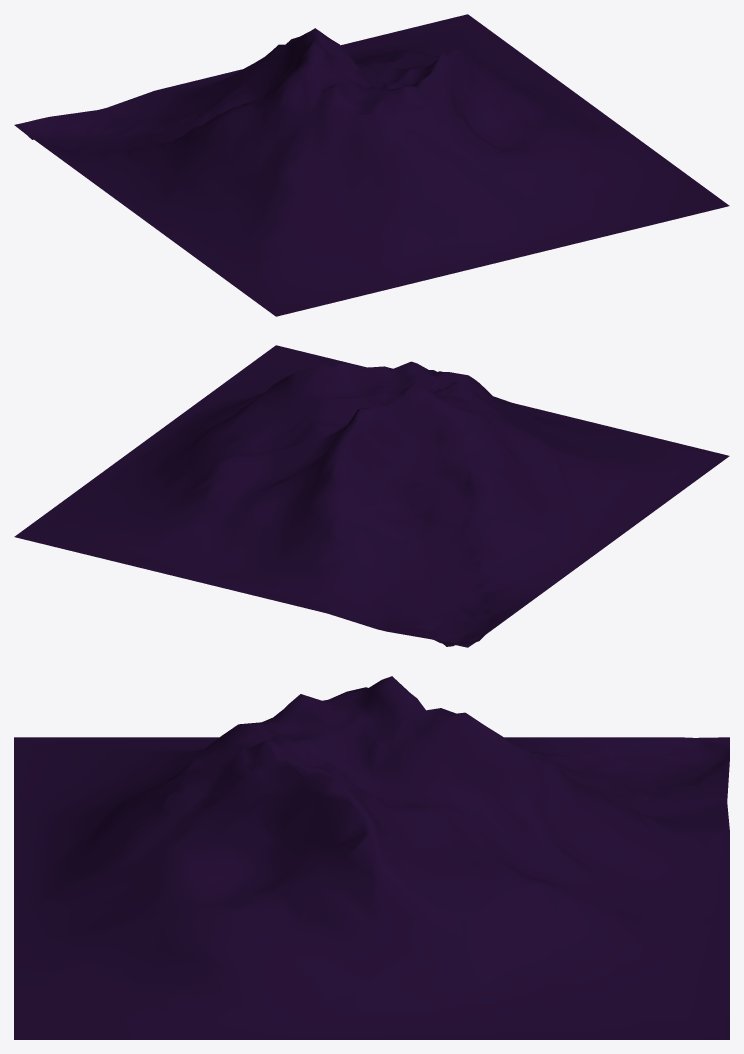
Rendered from island surface.fbx.
3 views of the same model, one above another, from view 1: azimuth 30°, elevation 25°; view 2: azimuth 150°, elevation 25°; view 3: azimuth 270°, elevation 25° (orthographic). The views are drawn at different scales.
Parts seen in each view (by area): view 1: Landscape; view 2: Landscape; view 3: Landscape.
Part boxes in pixels (box(x1,y1,x2,y2)): Landscape: box(14, 14, 729, 316); Landscape: box(14, 345, 729, 647); Landscape: box(14, 676, 729, 1039).
Size of the model in its own units: 800 by 235 by 800.
